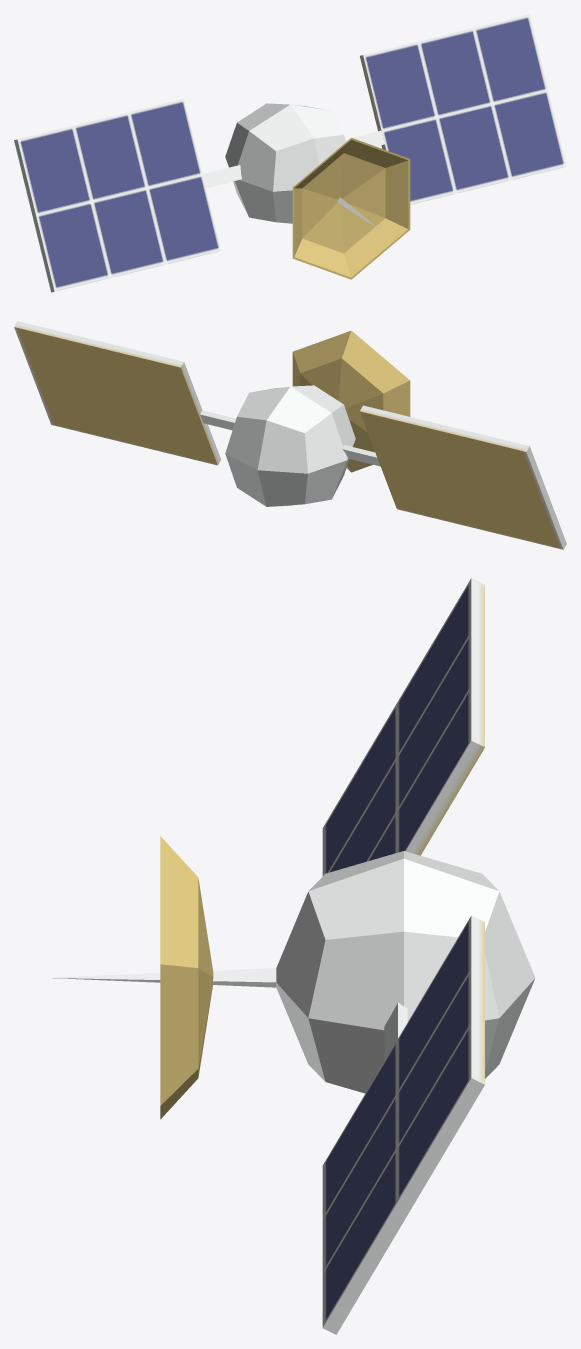
File: SatelliteUVEditTextured.fbx
3 renders of one model, top to bottom at view 1: azimuth 30°, elevation 25°; view 2: azimuth 150°, elevation 25°; view 3: azimuth 270°, elevation 25°, orthographic. The views are drawn at different scales.
Parts seen in each view (by area): view 1: Cube; view 2: Cube; view 3: Cube.
Part boxes in pixels (x1,y1,x2,y2): Cube: [14, 14, 566, 292]; Cube: [14, 321, 566, 549]; Cube: [47, 578, 535, 1334].
Size of the model in its own units: 755 by 205 by 313.
1 material, 1 textured.
